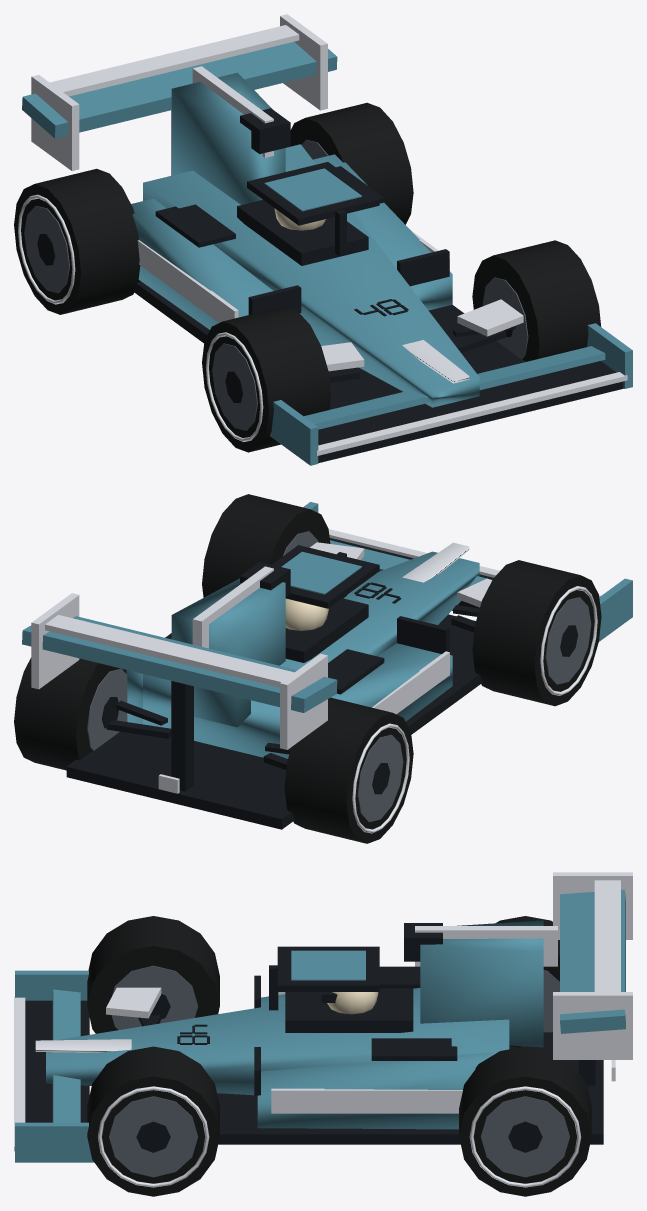
The model's file is tempest-48.glb.
3 renders of one model, top to bottom at view 1: azimuth 30°, elevation 25°; view 2: azimuth 150°, elevation 25°; view 3: azimuth 270°, elevation 25°, orthographic.
Parts seen in each view (by area): view 1: formula-48, wheel (×4); view 2: formula-48, wheel (×4); view 3: formula-48, wheel (×4).
Boxes of the visible parts, x1,y1,x2,y2 form: formula-48: (22,14,632,465); wheel (×4): (14,102,601,452); formula-48: (22,502,632,829); wheel (×4): (14,494,601,843); formula-48: (14,872,632,1162); wheel (×4): (87,916,591,1196).
Size of the model in its own units: 3.37 by 1.82 by 5.41.
